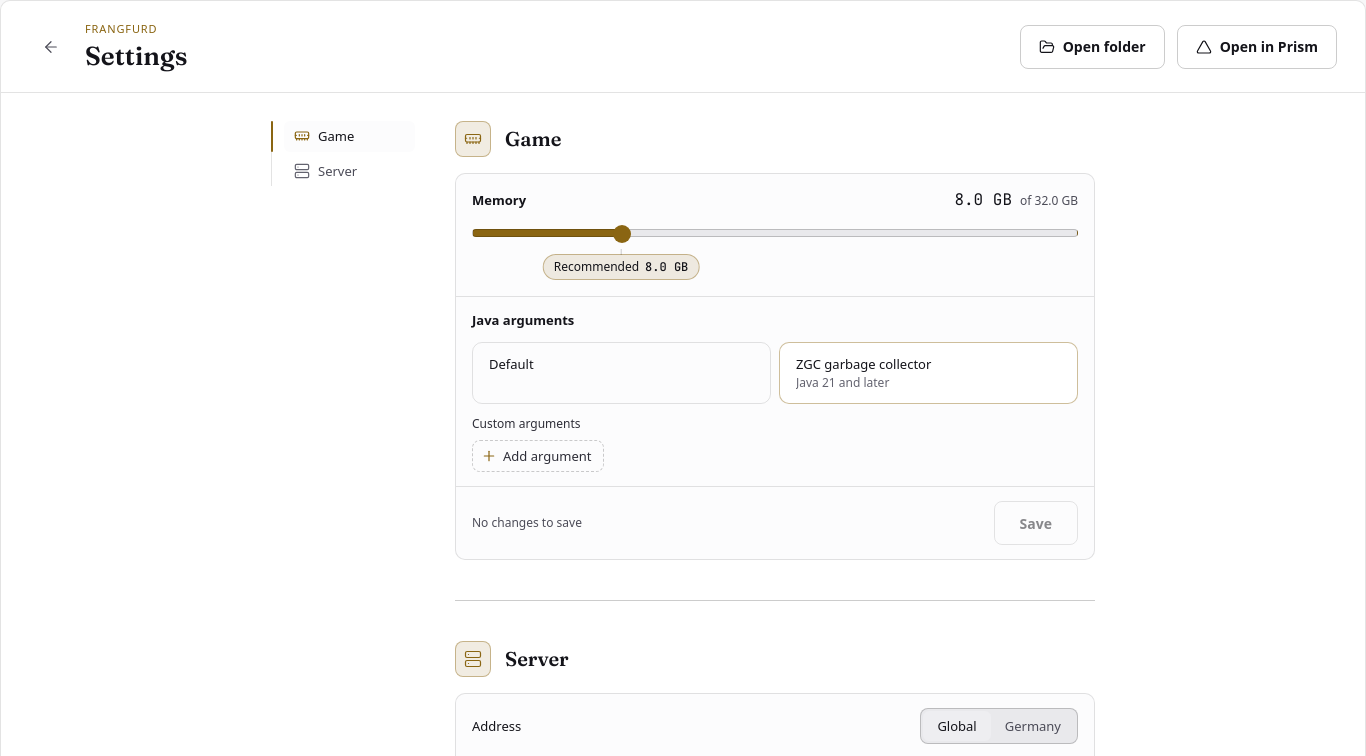
Test case: ChapterSettingsPanel › shows a rejection and keeps the draft
Step 1. Set the slider labelled "Memory" to "4096" → {"x": 546, "y": 233}, box [472, 224, 1078, 242]
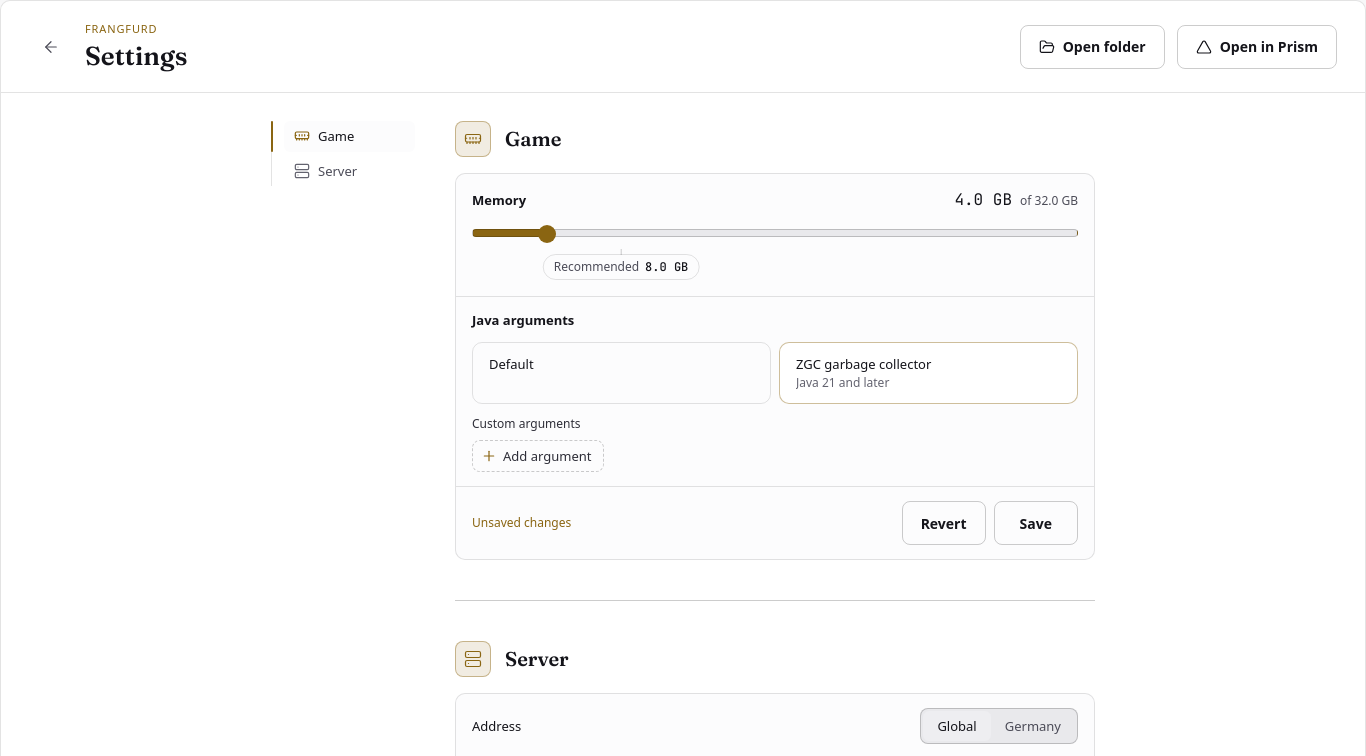
Step 2. Click the button "Save" → {"x": 1036, "y": 523}, box [994, 501, 1078, 545]
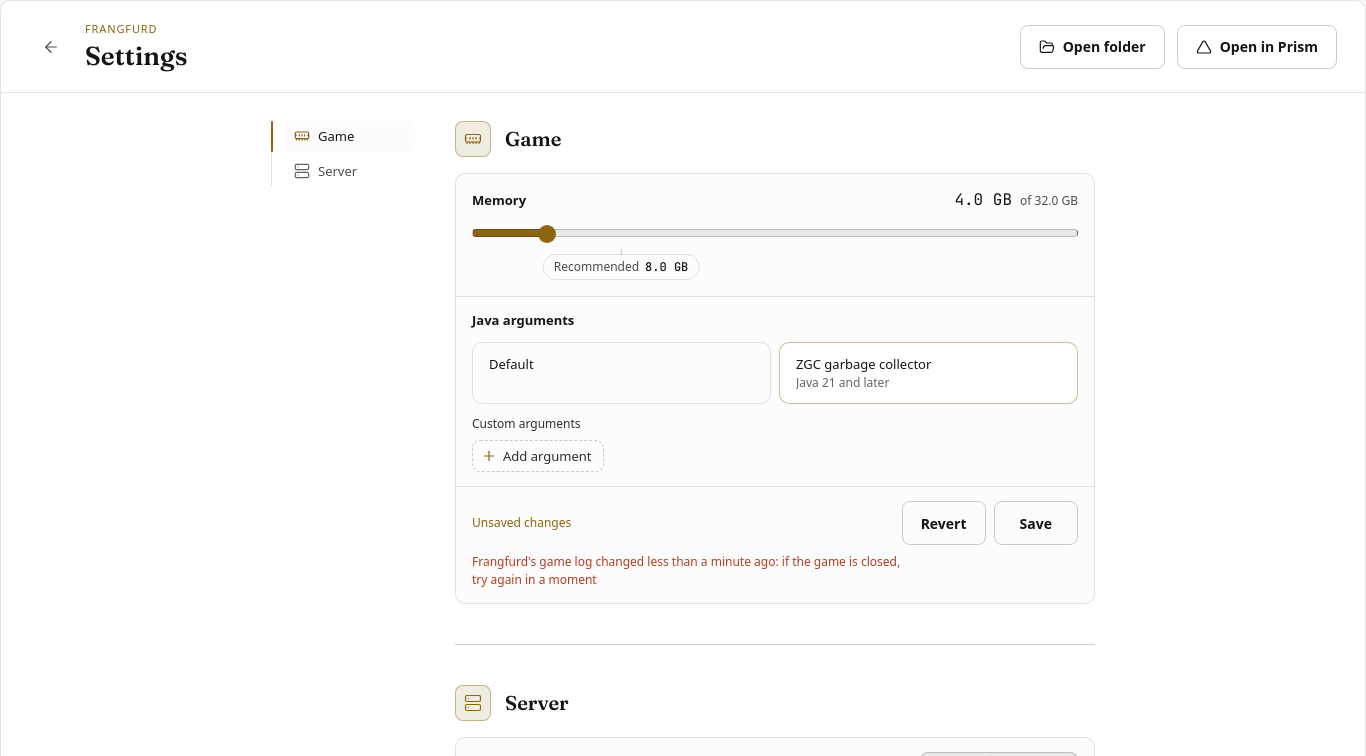
Result: the text "game log changed less than a minute ago" is shown at [472, 553, 900, 588]
